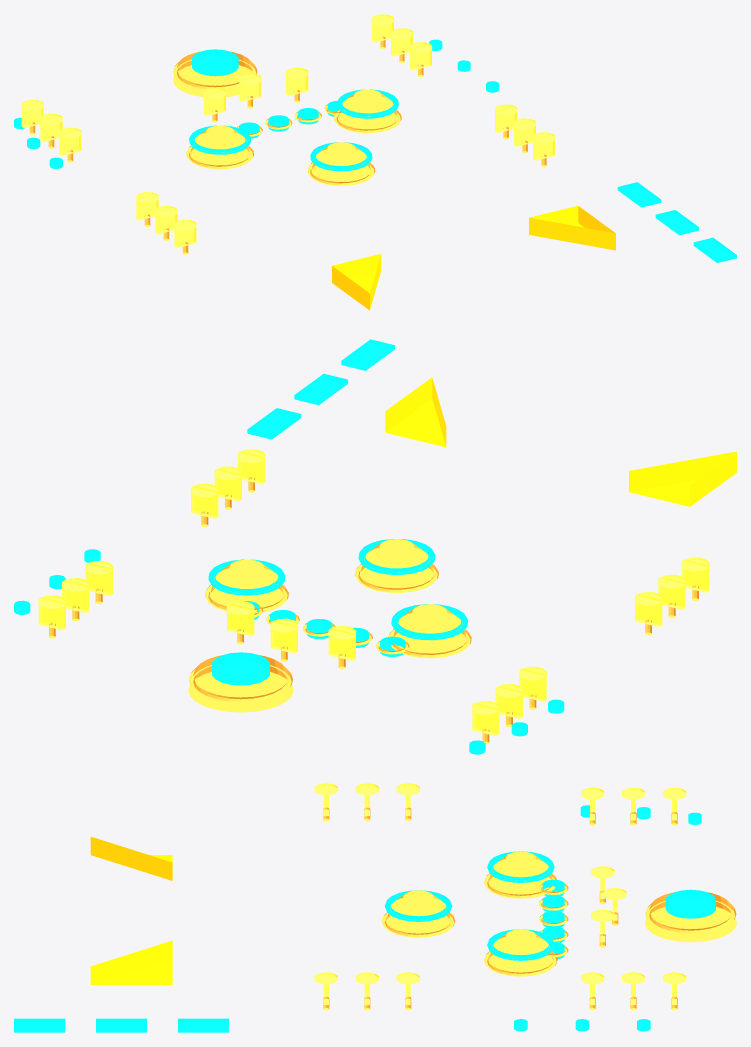
Rendered from vault-breakers-mechanisms.glb.
3 views of the same model, one above another, from view 1: azimuth 30°, elevation 25°; view 2: azimuth 150°, elevation 25°; view 3: azimuth 270°, elevation 25° (orthographic). The views are drawn at different scales.
Parts seen in each view (by area): view 1: brassMechanisms, targetFaces, cyanMechanisms, slingshots, laneGuides; view 2: brassMechanisms, targetFaces, cyanMechanisms, slingshots, laneGuides; view 3: brassMechanisms, cyanMechanisms, targetFaces, slingshots, laneGuides.
Boxes of the visible parts, x1,y1,x2,y2 form: brassMechanisms: (29, 36, 546, 254); targetFaces: (21, 14, 555, 247); cyanMechanisms: (14, 39, 499, 171); slingshots: (332, 206, 615, 310); laneGuides: (617, 182, 736, 262); brassMechanisms: (49, 477, 698, 744); targetFaces: (38, 449, 709, 736); cyanMechanisms: (14, 539, 564, 754); slingshots: (385, 377, 736, 506); laneGuides: (247, 339, 394, 439); brassMechanisms: (323, 807, 736, 1010); cyanMechanisms: (385, 805, 715, 1031); targetFaces: (314, 783, 686, 1004); slingshots: (90, 836, 172, 984); laneGuides: (14, 1018, 228, 1032).
Bounding box in the file's own units: 5.13 × 0.34 × 7.06.
